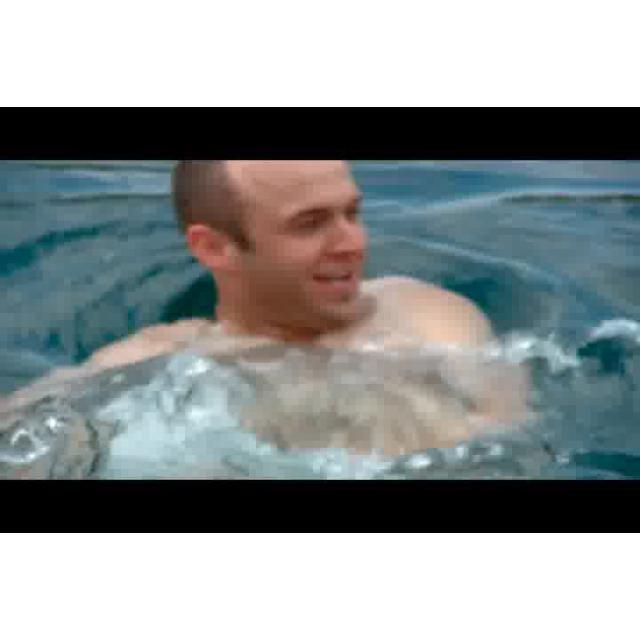human: (4, 164, 539, 451)
